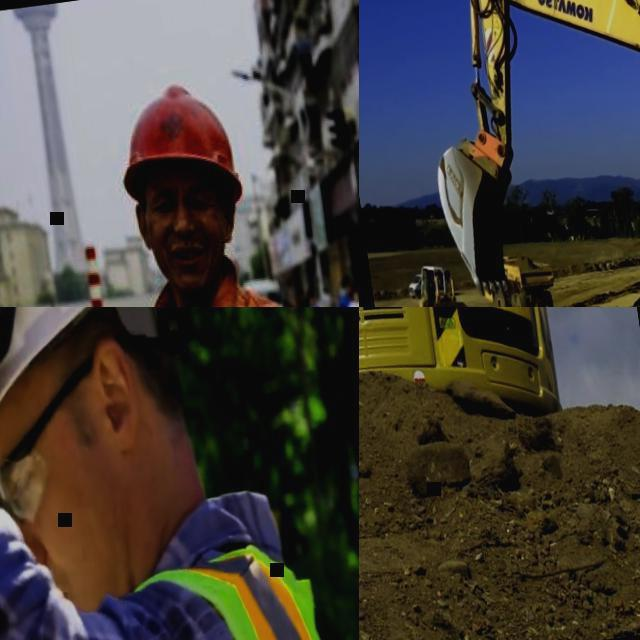helmet: (0, 307, 199, 462), (111, 80, 242, 212)
machinery: (401, 0, 640, 307), (359, 307, 565, 495), (478, 244, 560, 307), (409, 258, 480, 307)
no_helmet: (341, 278, 350, 287), (308, 292, 316, 300), (352, 286, 359, 294)
no_mask: (26, 490, 136, 628), (156, 225, 229, 294)
no_vest: (303, 291, 329, 307), (318, 296, 336, 307), (340, 295, 351, 307)
person: (0, 307, 333, 640), (0, 63, 359, 307), (335, 277, 355, 307), (316, 284, 341, 307), (429, 278, 441, 292)
vehicle: (407, 272, 426, 300)
vest: (130, 533, 332, 640)
